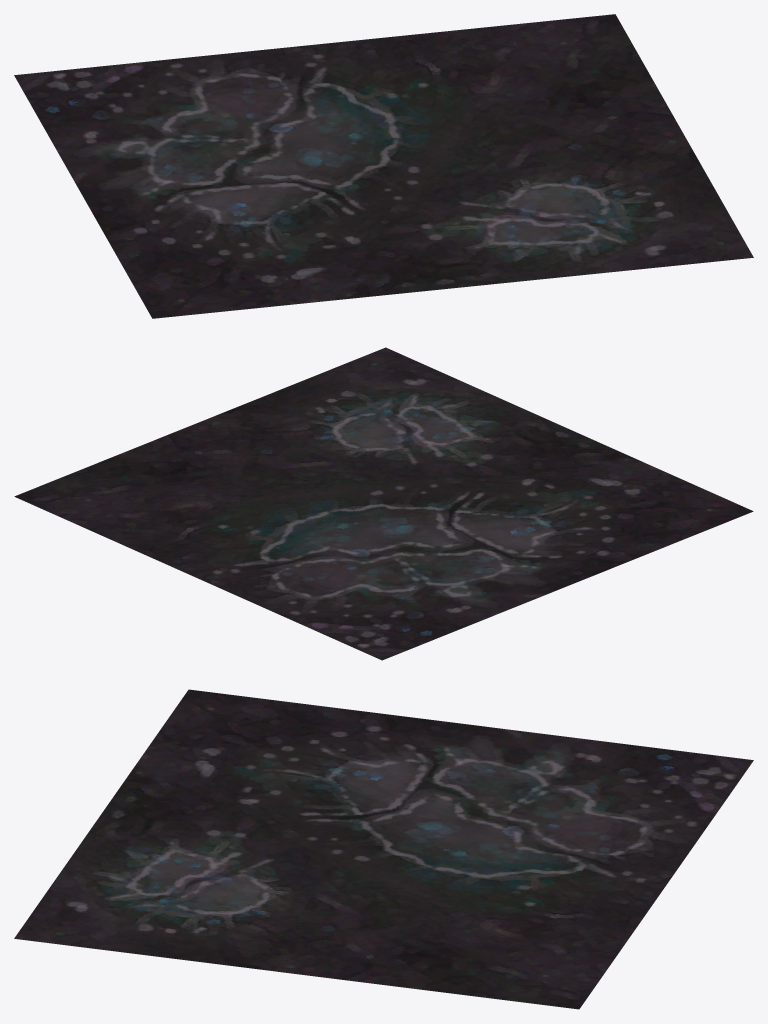
The model's file is cave_floor_mushrooms_13.fbx.
3 renders of one model, top to bottom at view 1: azimuth 30°, elevation 25°; view 2: azimuth 150°, elevation 25°; view 3: azimuth 270°, elevation 25°, orthographic. The views are drawn at different scales.
Visible parts, largest first — view 1: cave_tileset/Floormushrooms_02_mat; view 2: cave_tileset/Floormushrooms_02_mat; view 3: cave_tileset/Floormushrooms_02_mat.
Boxes of the visible parts, x1=… form: cave_tileset/Floormushrooms_02_mat: x1=14, y1=14, x2=753, y2=318; cave_tileset/Floormushrooms_02_mat: x1=14, y1=347, x2=753, y2=660; cave_tileset/Floormushrooms_02_mat: x1=14, y1=689, x2=753, y2=1009.
Bounding box in the file's own units: 4.03 × 0 × 3.94.
